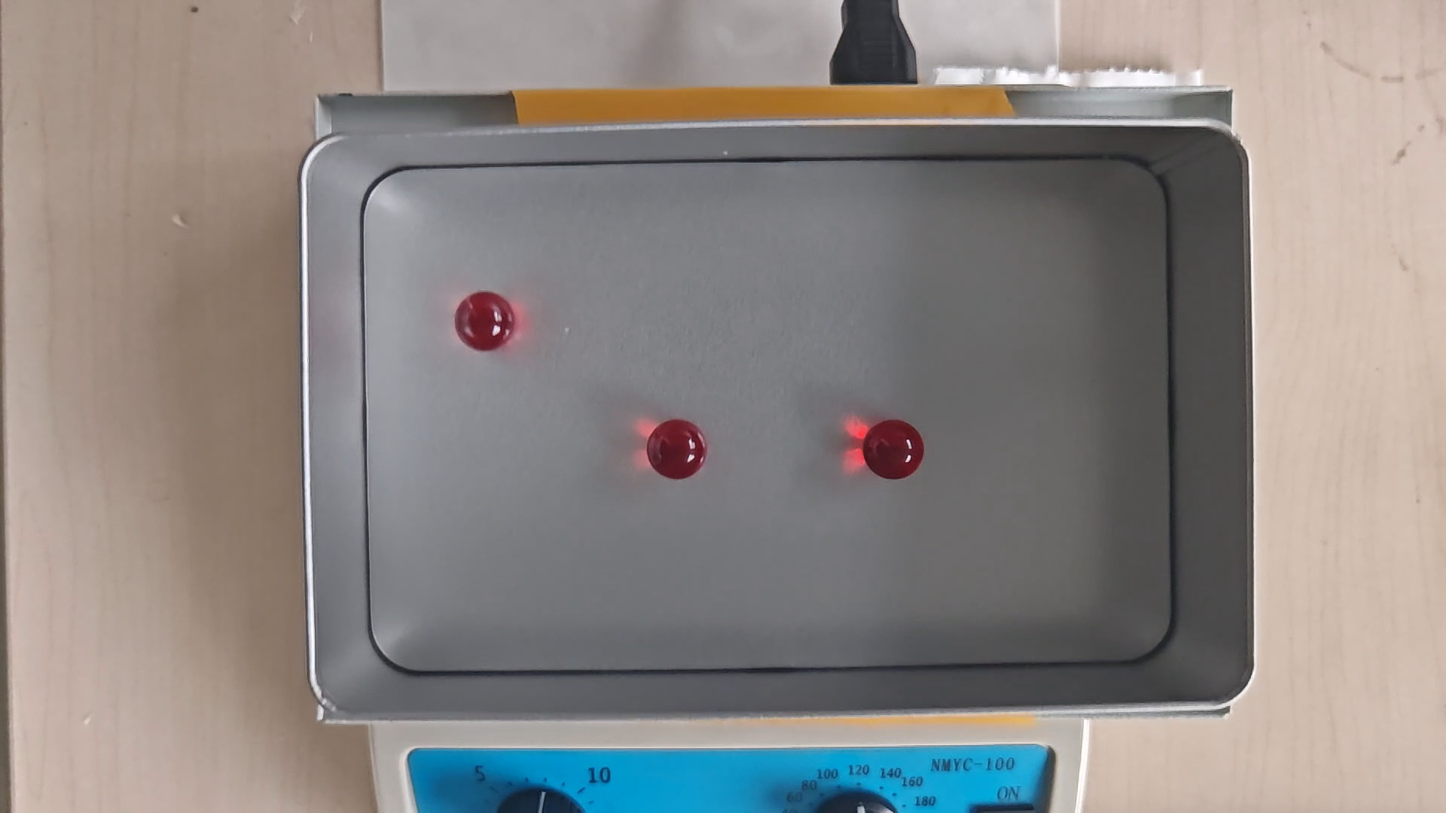ball: (646, 419, 709, 482), (865, 418, 926, 482), (456, 291, 512, 350)
container: (364, 159, 1171, 670)
